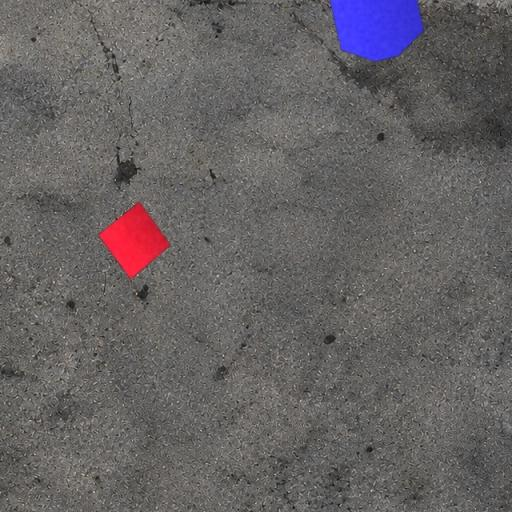RED_SQUARE: (98, 202, 171, 280)
